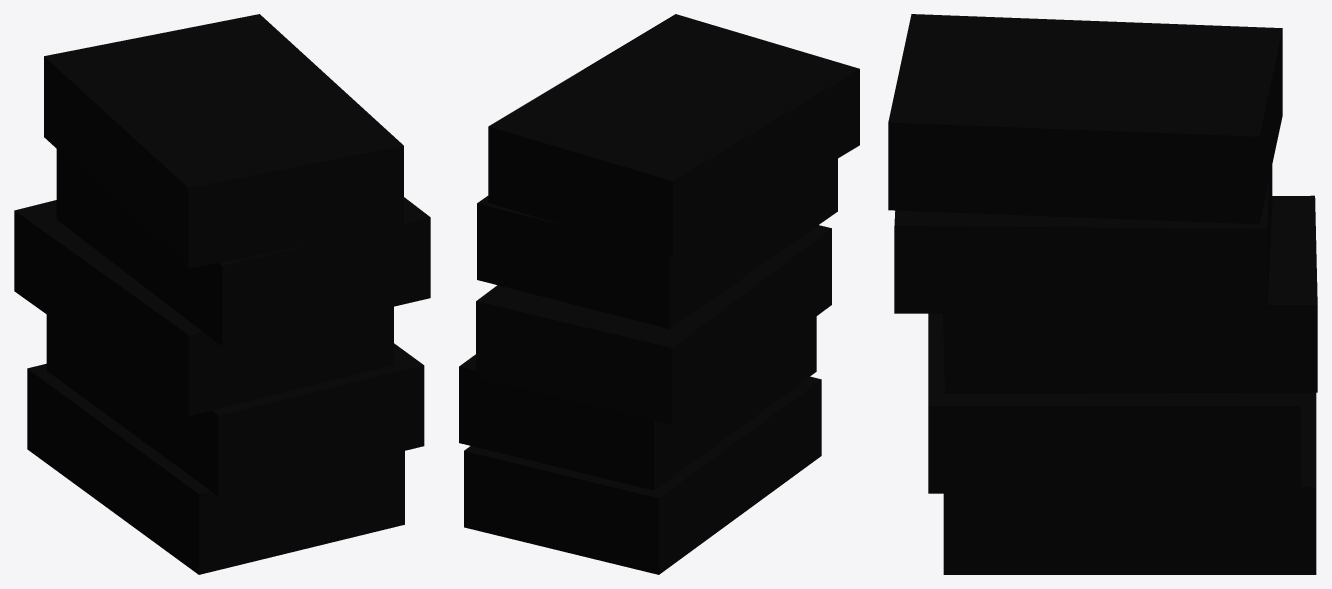
3 renders of one model, left to right at view 1: azimuth 30°, elevation 25°; view 2: azimuth 150°, elevation 25°; view 3: azimuth 270°, elevation 25°, orthographic. The views are drawn at different scales.
Visible parts, largest first — view 1: Joint_0_Object_0; view 2: Joint_0_Object_0; view 3: Joint_0_Object_0.
Boxes of the visible parts, x1,y1,x2,y2 form: Joint_0_Object_0: (14, 14, 430, 574); Joint_0_Object_0: (459, 14, 859, 574); Joint_0_Object_0: (888, 14, 1317, 574).
Bounding box in the file's own units: 273 × 432 × 383.
1 material, 1 textured.
